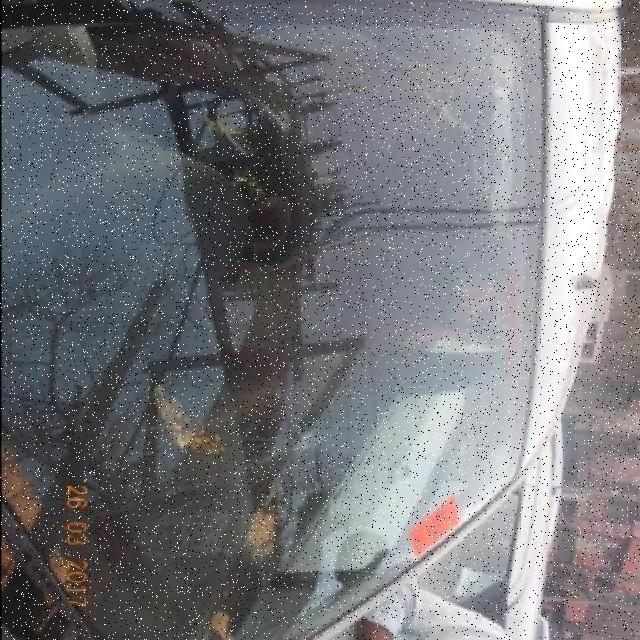damage: (396, 75, 492, 167), (248, 421, 342, 495)
